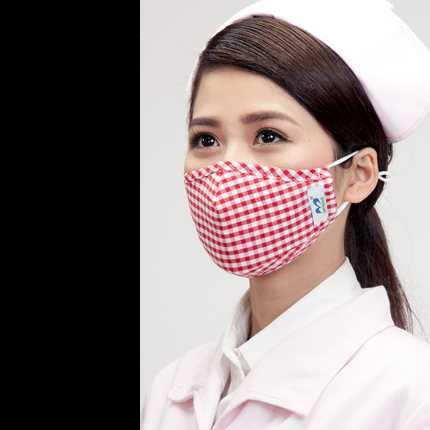OK: (178, 103, 346, 271)
